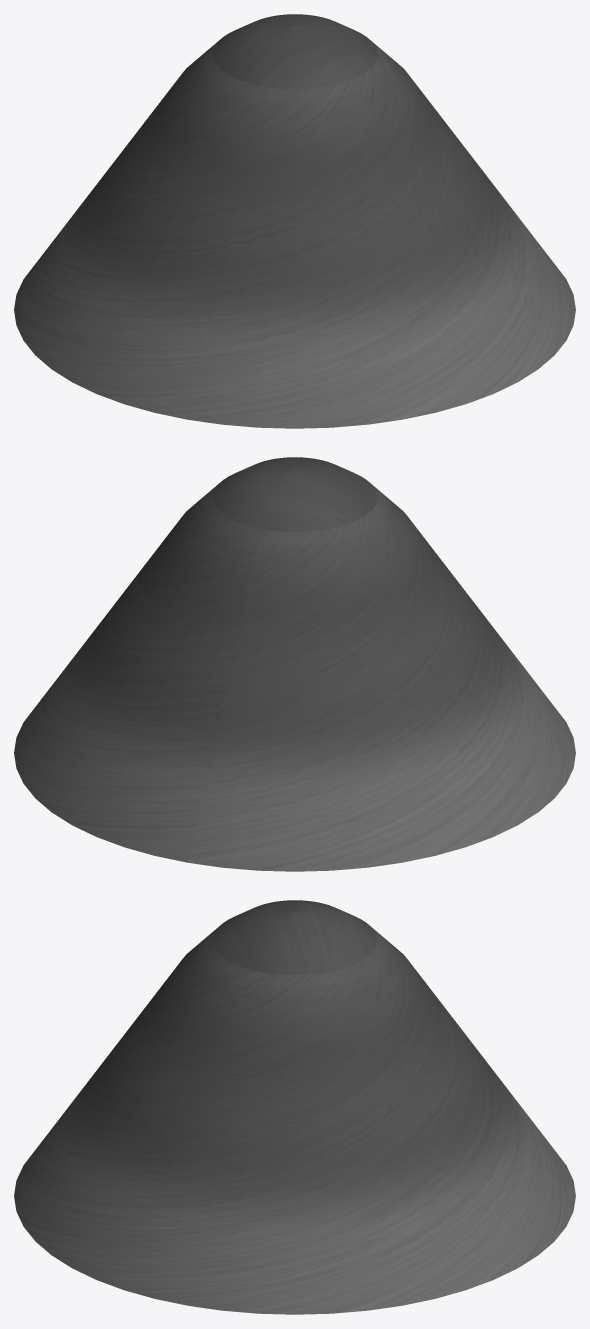
The model's file is nosecone.fbx.
3 renders of one model, top to bottom at view 1: azimuth 30°, elevation 25°; view 2: azimuth 150°, elevation 25°; view 3: azimuth 270°, elevation 25°, orthographic.
Visible parts, largest first — view 1: nosecone; view 2: nosecone; view 3: nosecone.
Part boxes in pixels (bbox=[...]): nosecone: bbox=[14, 14, 575, 428]; nosecone: bbox=[14, 457, 575, 871]; nosecone: bbox=[14, 900, 575, 1314].
Bounding box in the file's own units: 294 × 164 × 294.
